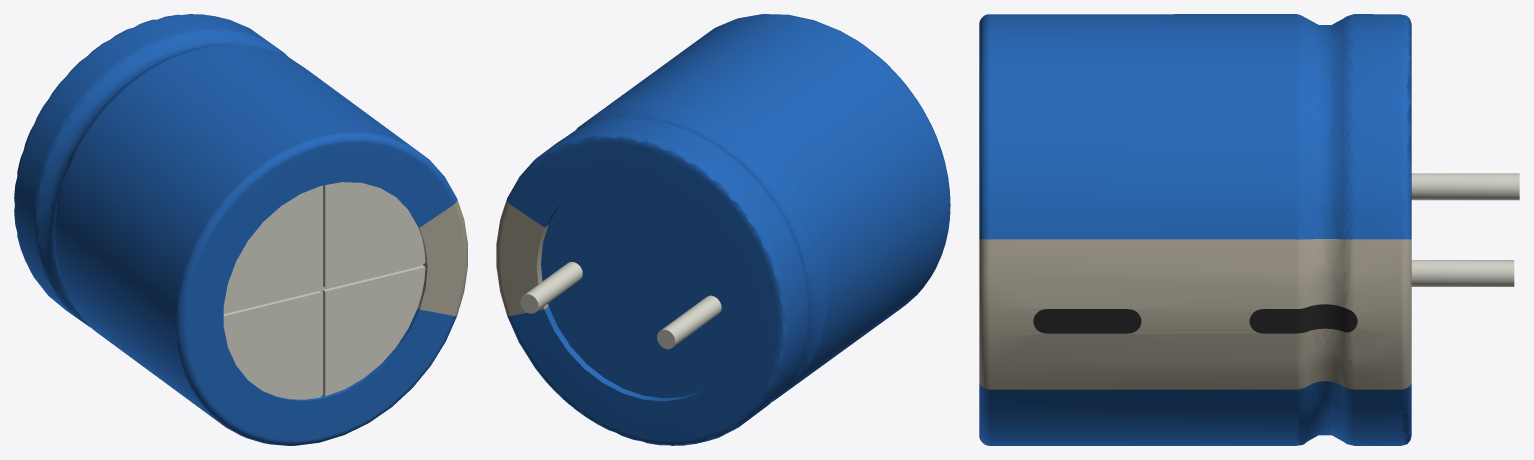
Rendered from cp-radial-d8.0-p3.80.glb.
3 views of the same model, side by side, from view 1: azimuth 30°, elevation 25°; view 2: azimuth 150°, elevation 25°; view 3: azimuth 270°, elevation 25° (orthographic). The views are drawn at different scales.
Parts seen in each view (by area): view 1: PLASTIC-BLUE-01, PIN-01, IC-LABEL-01; view 2: PLASTIC-BLUE-01, IC-LABEL-01, PIN-01; view 3: PLASTIC-BLUE-01, IC-LABEL-01, PIN-01, IC-BODY-EPOXY-04.
Boxes of the visible parts, x1,y1,x2,y2 form: PLASTIC-BLUE-01: (14,14,457,445); PIN-01: (223,182,425,399); IC-LABEL-01: (418,199,467,315); PLASTIC-BLUE-01: (507,14,950,445); IC-LABEL-01: (496,199,548,316); PIN-01: (525,262,721,346); PLASTIC-BLUE-01: (979,14,1411,445); IC-LABEL-01: (979,239,1411,389); PIN-01: (1411,173,1519,286); IC-BODY-EPOXY-04: (1033,304,1357,333).
Bounding box in the file's own units: 8 × 8 × 10.
